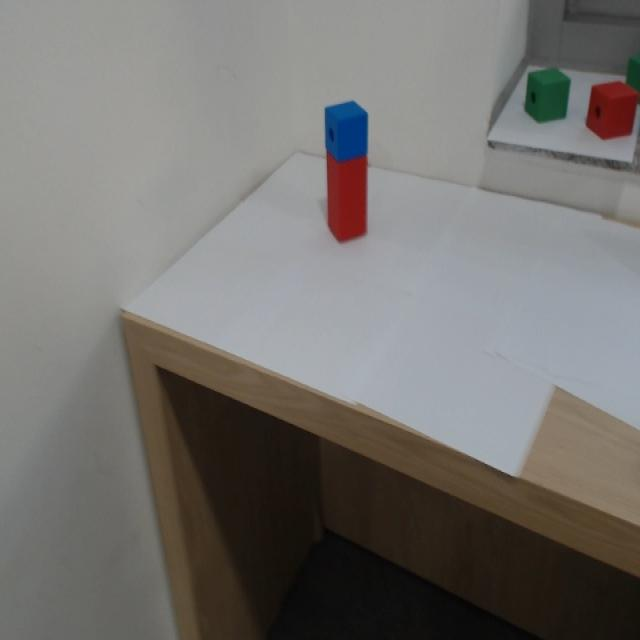cube: (320, 86, 375, 154)
